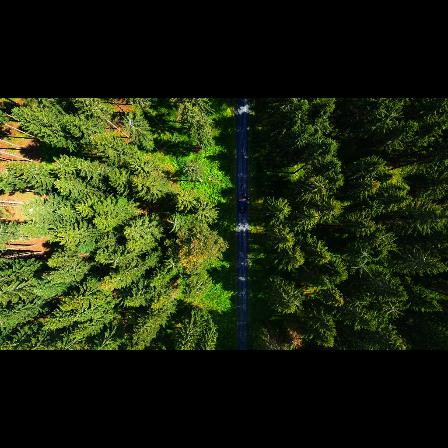Sick: (165, 212, 187, 237), (382, 298, 404, 322), (352, 256, 371, 278), (356, 245, 374, 262)
